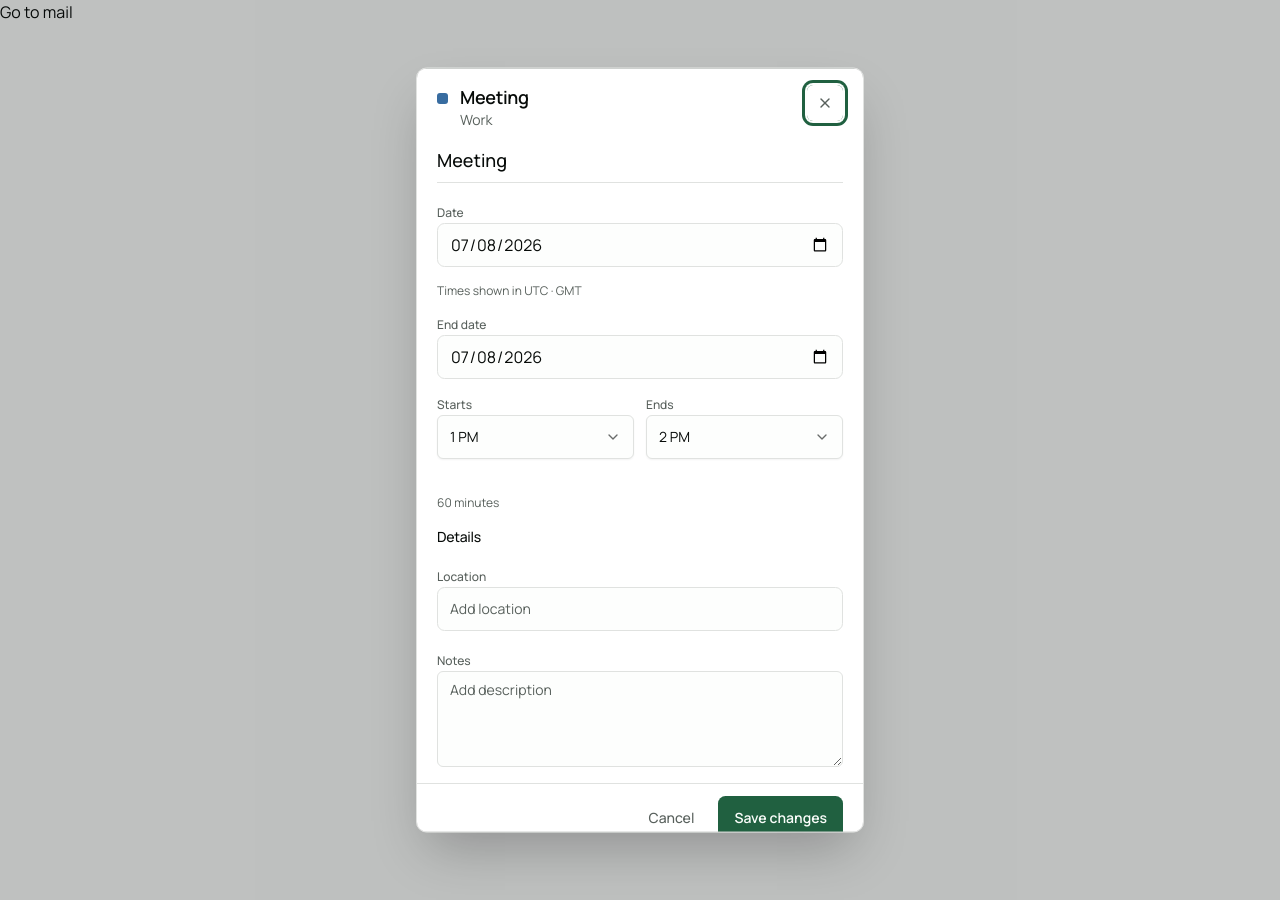
it: protects an existing event edit during navigation and releases its blocker after discard
The image size is (1280, 900).
Replace the text in the field named "title" with "Changed meeting": [640, 164] box [437, 145, 843, 182]
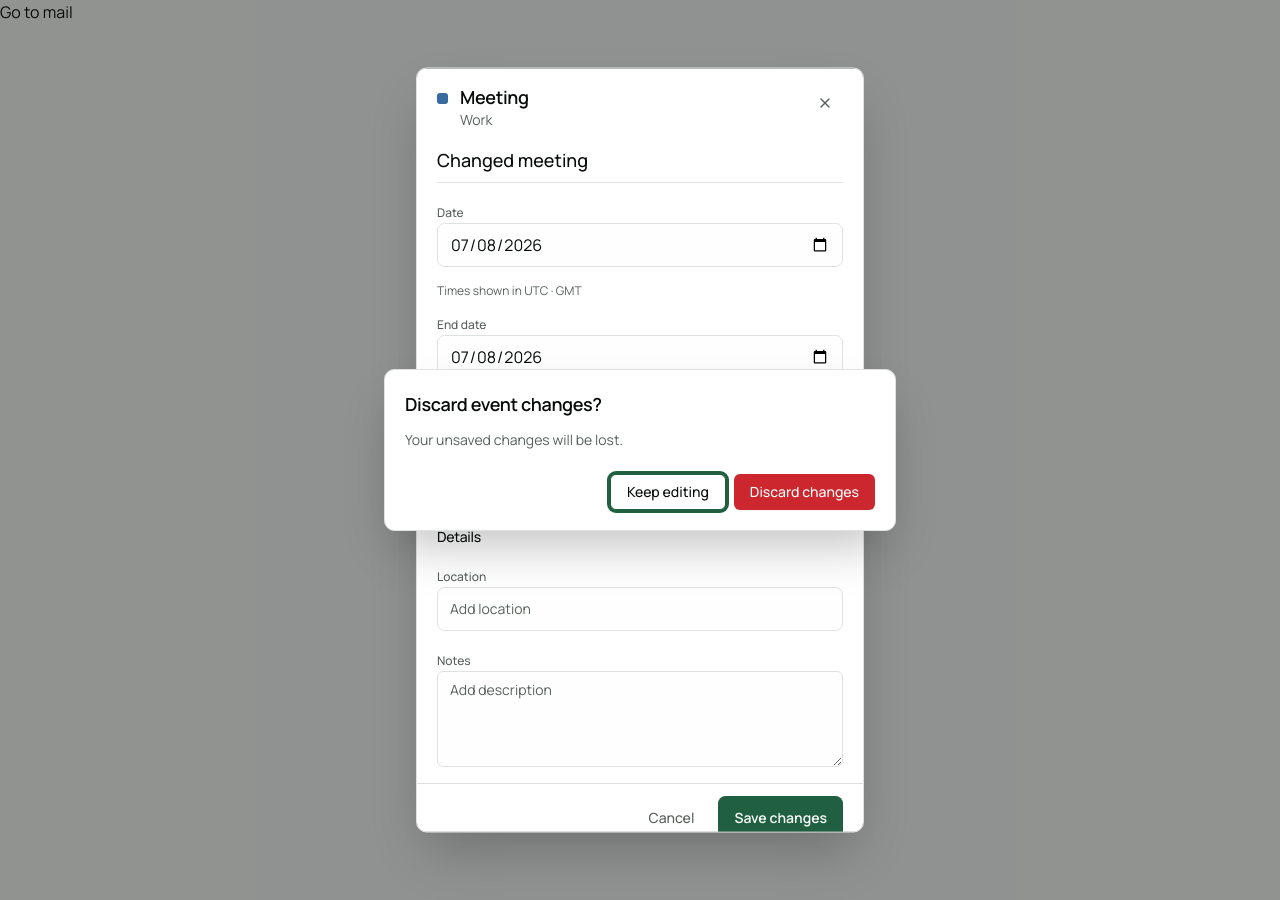
Expected: the dialog "Discard event changes?" is shown, [384, 369, 896, 531]
Click the button "Discard changes": [804, 492] box [734, 474, 875, 510]
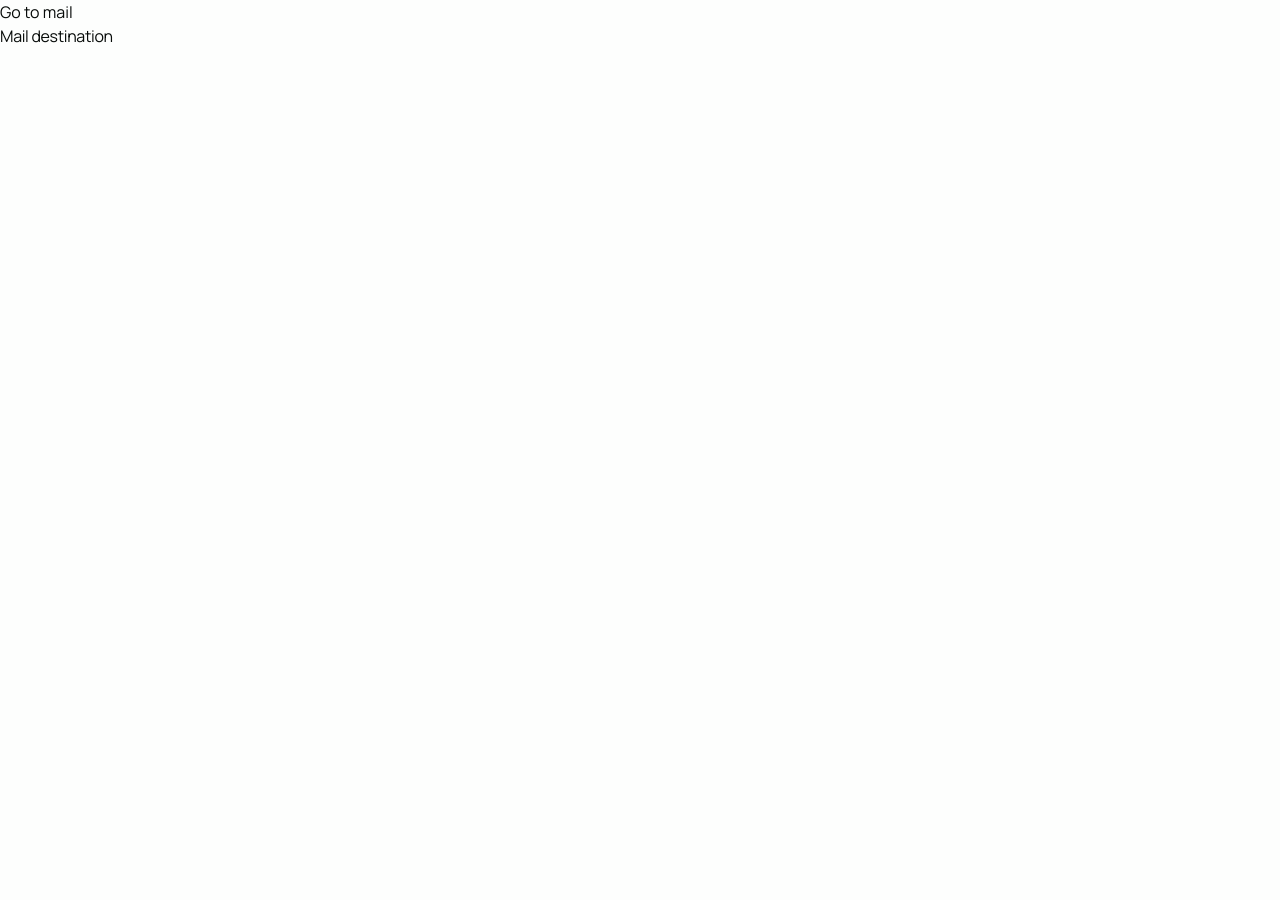
Expected: the heading "Mail destination" is shown, [0, 25, 113, 47]
